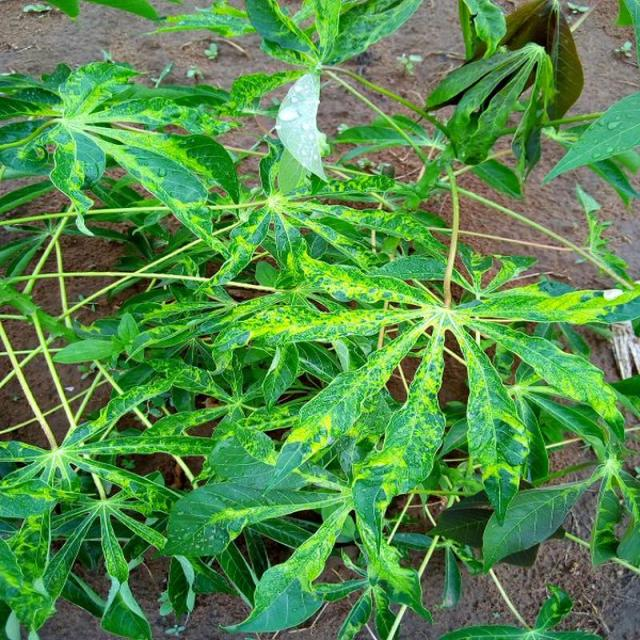cassava leaf: (0, 1, 638, 637), (274, 70, 328, 184)
